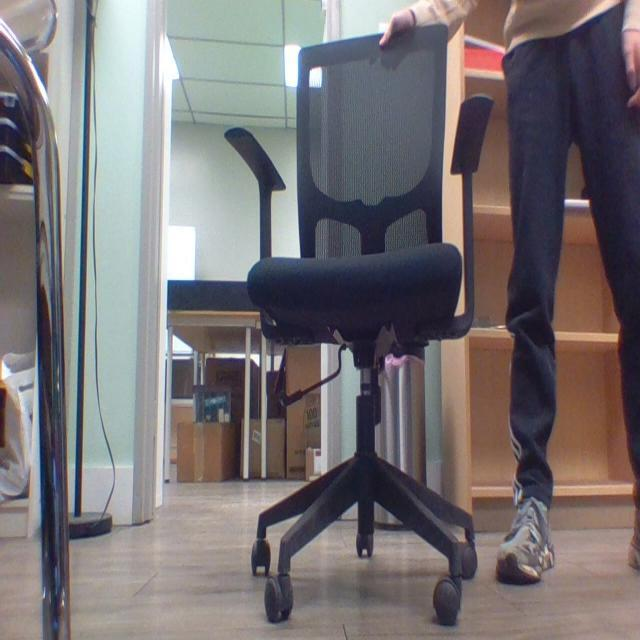chair: (236, 27, 472, 625)
